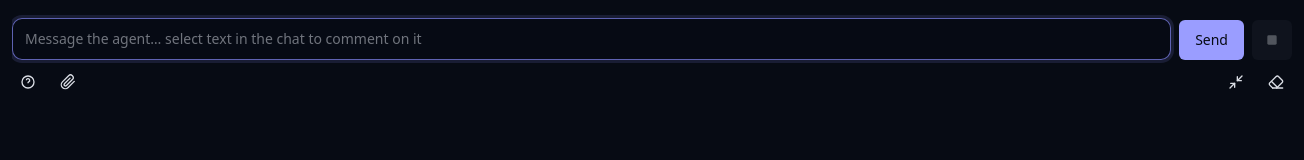
typing @ap queries q=ap after a debounce
The width and height of the screenshot is (1304, 160).
Type "see @ap" into the text box at x=592, y=39, box [12, 18, 1171, 60]
Wait 100 ms
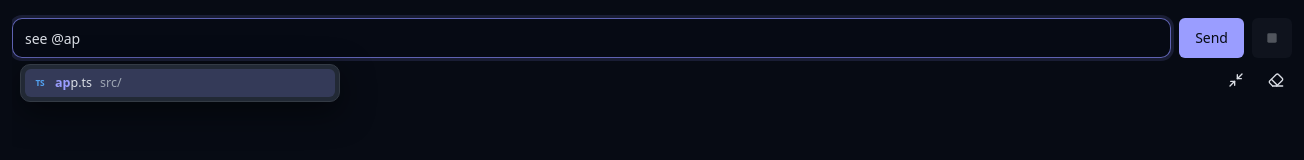
Expected: the list is shown, [20, 64, 340, 102]
